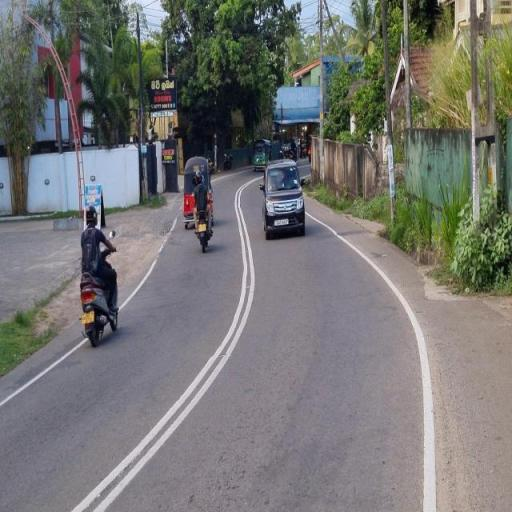double_white_line: (75, 177, 255, 512)
